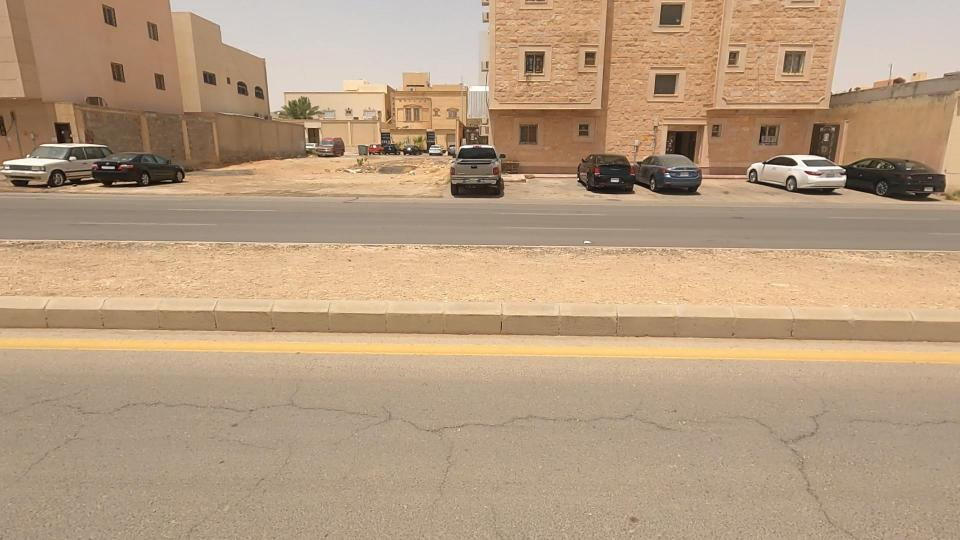CLUTTER_SIDEWALK: (267, 203, 822, 356), (0, 202, 478, 350)
GARBAGE: (307, 156, 392, 194), (382, 147, 435, 196)
